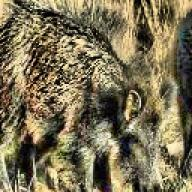boar: (0, 0, 170, 192)
